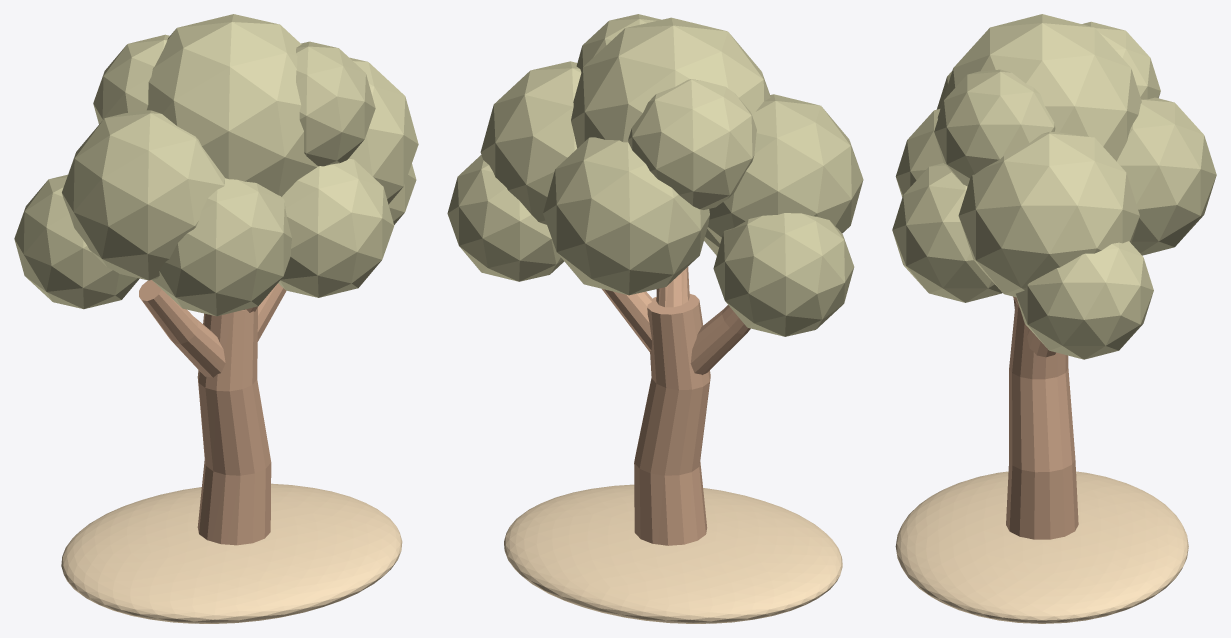
The model's file is mulberry_tree_bare.glb.
3 views of the same model, side by side, from view 1: azimuth 30°, elevation 25°; view 2: azimuth 150°, elevation 25°; view 3: azimuth 270°, elevation 25° (orthographic).
Parts seen in each view (by area): view 1: Base, Canopy_0, Canopy_1, Trunk, Canopy_3, Canopy_4, Canopy_5, Canopy_9, Canopy_2, Canopy_8, Branch_L, Branch_R (+1 smaller); view 2: Base, Canopy_7, Trunk, Canopy_0, Canopy_5, Canopy_1, Canopy_8, Canopy_2, Canopy_6, Branch_L, Branch_R, Canopy_9 (+1 smaller); view 3: Base, Canopy_2, Canopy_0, Trunk, Canopy_6, Canopy_7, Canopy_9, Canopy_4, Canopy_3, Canopy_8.
Part boxes in pixels (bbox=[...]): Base: bbox=[61, 483, 402, 623]; Canopy_0: bbox=[147, 14, 317, 196]; Canopy_1: bbox=[62, 110, 224, 280]; Trunk: bbox=[197, 307, 271, 545]; Canopy_3: bbox=[152, 178, 291, 316]; Canopy_4: bbox=[278, 158, 394, 297]; Canopy_5: bbox=[14, 174, 139, 309]; Canopy_9: bbox=[296, 41, 375, 166]; Canopy_2: bbox=[349, 57, 418, 204]; Canopy_8: bbox=[93, 34, 169, 124]; Branch_L: bbox=[139, 280, 225, 377]; Branch_R: bbox=[257, 283, 286, 341]; Base: bbox=[504, 484, 842, 623]; Canopy_7: bbox=[543, 137, 709, 295]; Trunk: bbox=[634, 294, 710, 545]; Canopy_0: bbox=[571, 17, 770, 148]; Canopy_5: bbox=[713, 213, 854, 336]; Canopy_1: bbox=[707, 94, 863, 243]; Canopy_8: bbox=[628, 79, 756, 209]; Canopy_2: bbox=[480, 61, 581, 224]; Canopy_6: bbox=[447, 155, 564, 281]; Branch_L: bbox=[690, 305, 750, 374]; Branch_R: bbox=[602, 289, 652, 351]; Canopy_9: bbox=[576, 14, 661, 72]; Base: bbox=[895, 471, 1188, 623]; Canopy_2: bbox=[958, 131, 1139, 297]; Canopy_0: bbox=[937, 14, 1141, 161]; Trunk: bbox=[1006, 302, 1078, 539]; Canopy_6: bbox=[1015, 241, 1153, 359]; Canopy_7: bbox=[1116, 97, 1216, 255]; Canopy_9: bbox=[934, 69, 1055, 186]; Canopy_4: bbox=[892, 163, 1002, 302]; Canopy_3: bbox=[895, 109, 943, 197]; Canopy_8: bbox=[1082, 21, 1160, 99].
Size of the model in its own units: 1.26 by 1.73 by 0.93.
